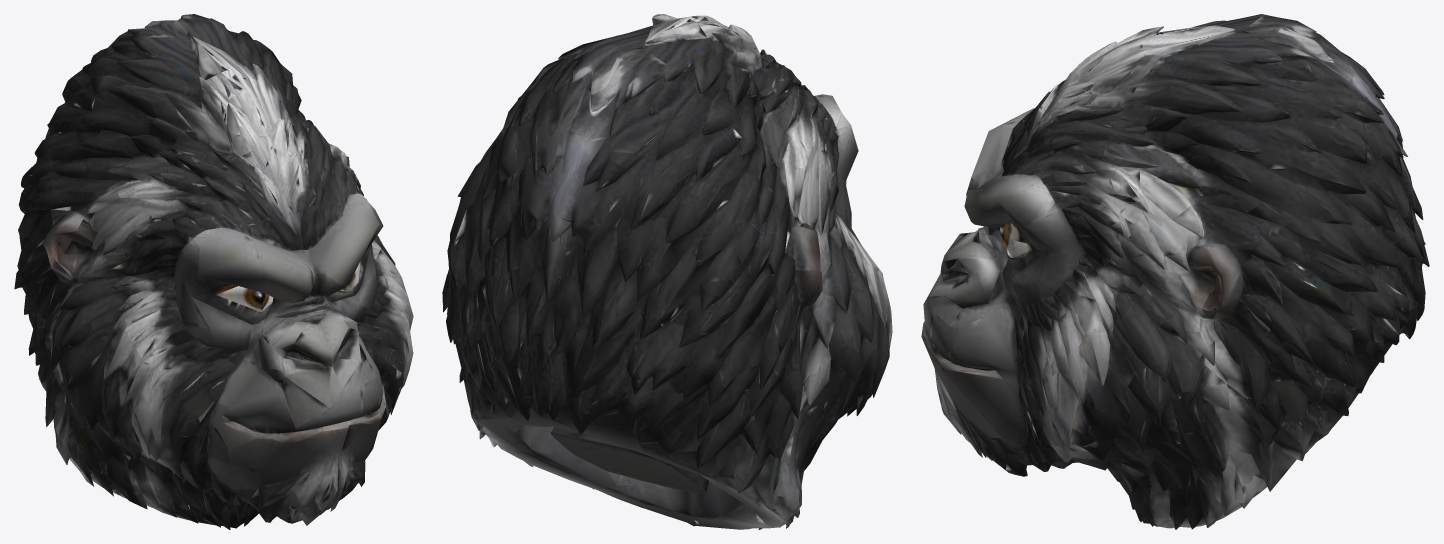
File: hdApe.glb
3 renders of one model, left to right at view 1: azimuth 30°, elevation 25°; view 2: azimuth 150°, elevation 25°; view 3: azimuth 270°, elevation 25°, orthographic. The views are drawn at different scales.
Bounding box in the file's own units: 1.44 × 1.89 × 1.77.
1 material, 1 textured.
